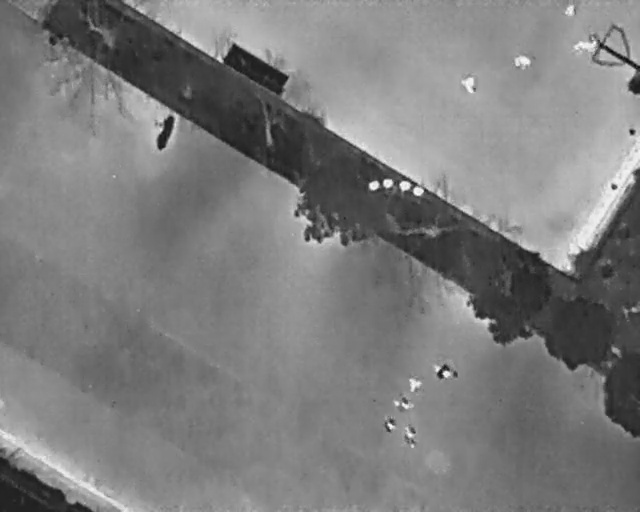Bicycle: (150, 109, 180, 154)
Person: (433, 360, 460, 382), (392, 394, 414, 415), (573, 38, 599, 54), (404, 424, 418, 448), (382, 415, 397, 436), (460, 76, 476, 93), (407, 376, 423, 393), (513, 55, 532, 69), (564, 4, 577, 17)
